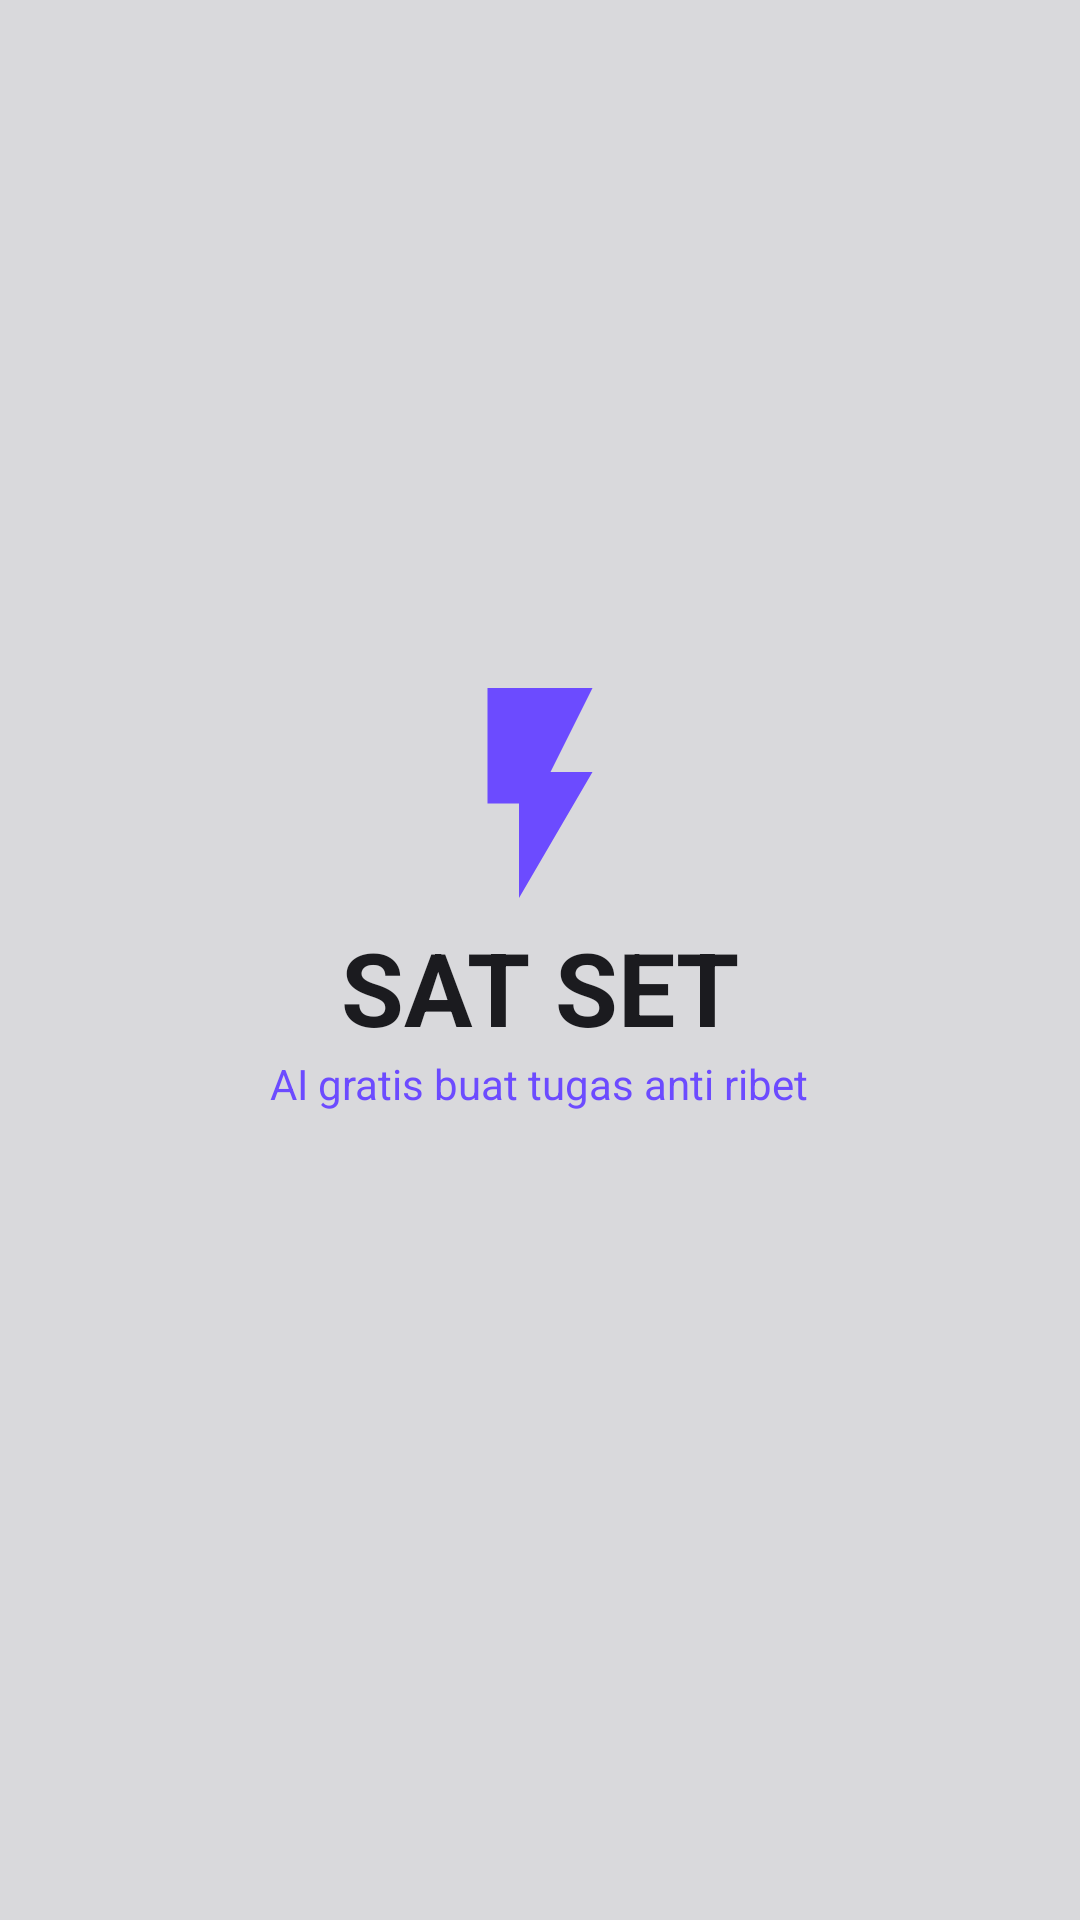

Locate icon controls on the screen. Image size 1080w x 1920h, boxes as (x1, y1, x2, y2).
bolt: (487, 688, 593, 898)
